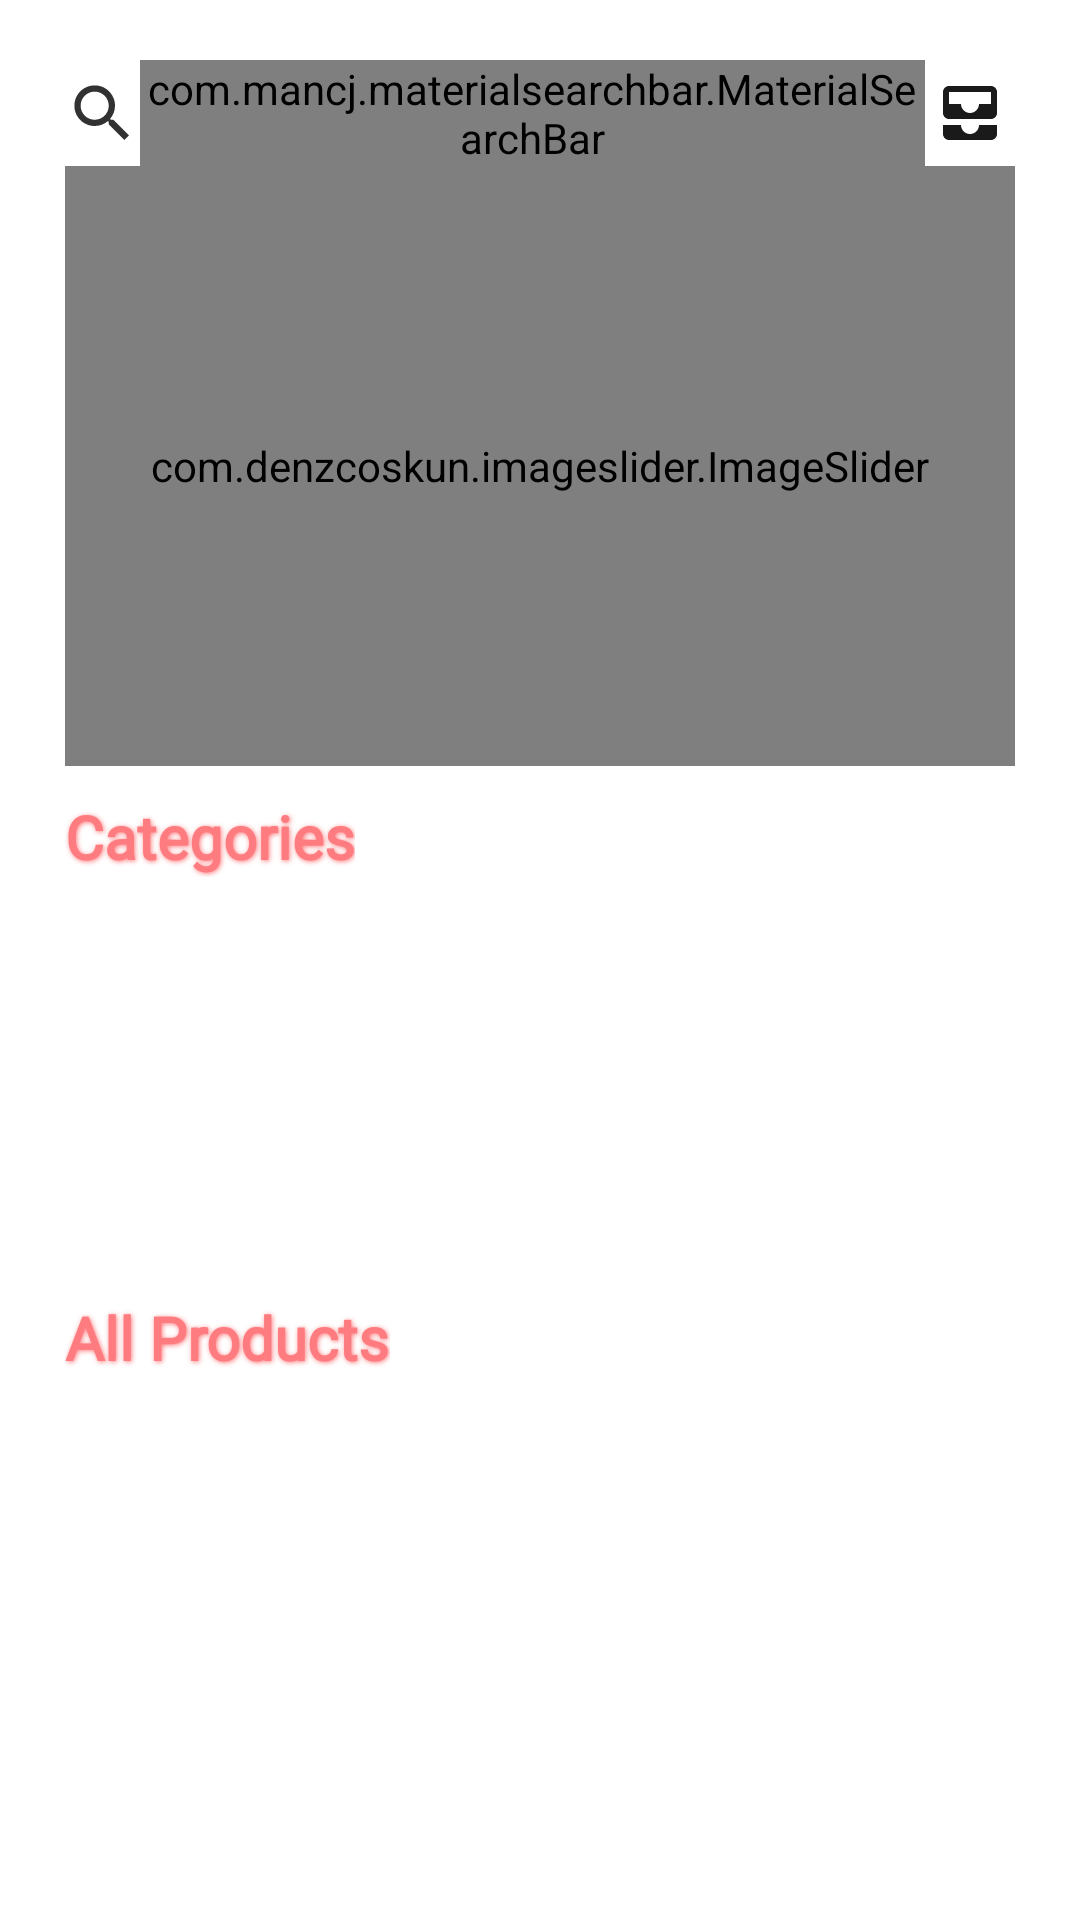

Icon bounding boxes for this 1080px×1920px phone screenshot, format (x1, y1, x2, y2):
all inbox: (943, 86, 997, 140)
